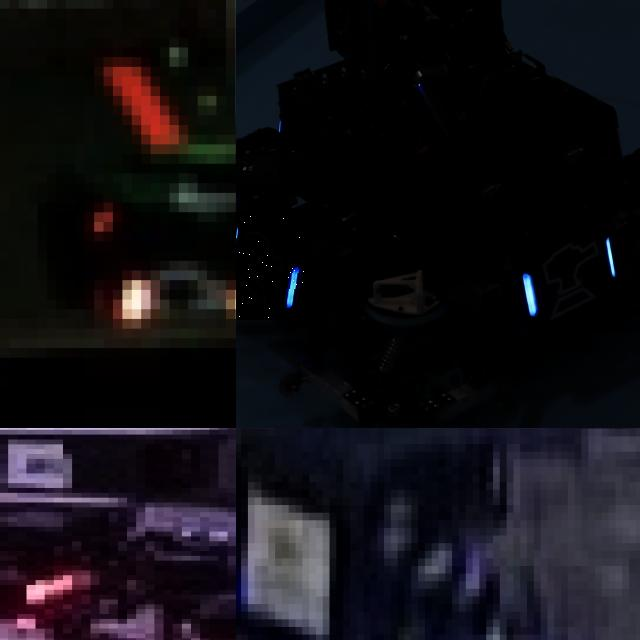Bs: (520, 231, 620, 326), (236, 212, 305, 319)
